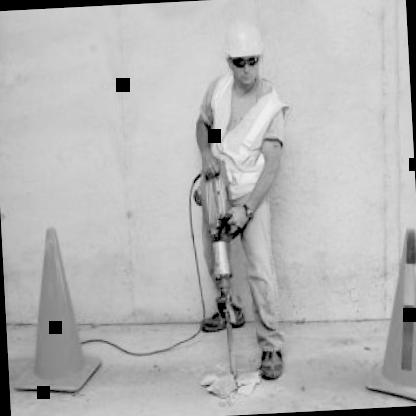helmet: (216, 9, 270, 92)
